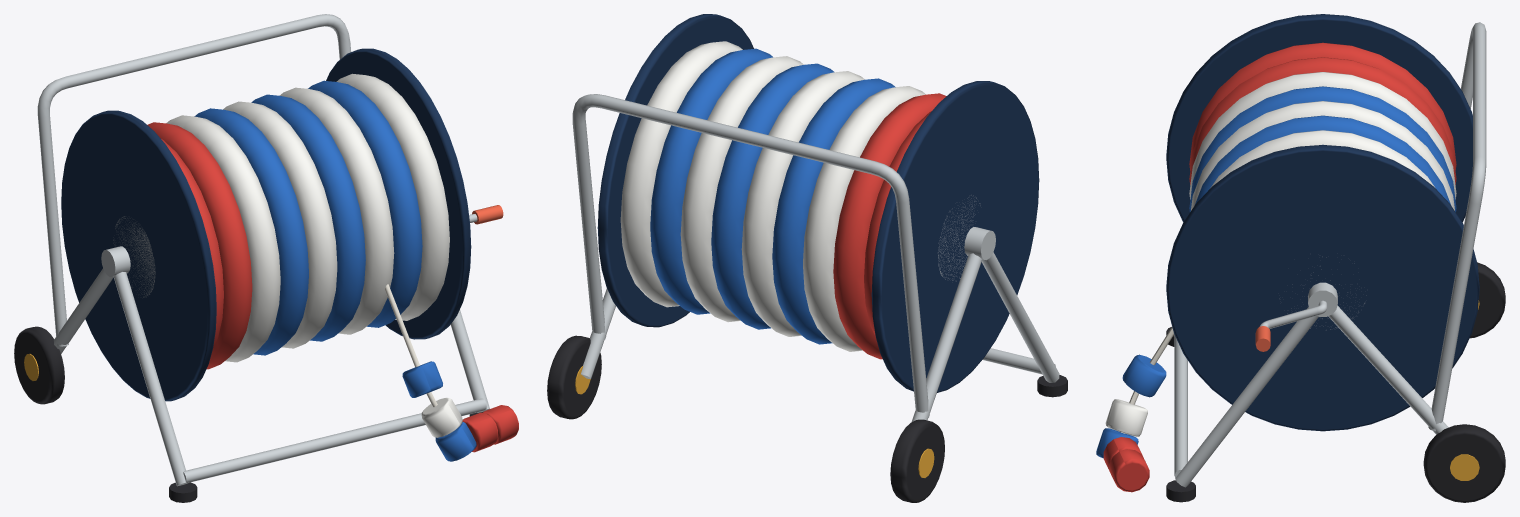
The model's file is rope_reel.glb.
3 renders of one model, left to right at view 1: azimuth 30°, elevation 25°; view 2: azimuth 150°, elevation 25°; view 3: azimuth 270°, elevation 25°, orthographic. The views are drawn at different scales.
Visible parts, largest first — view 1: RopeReelBody; view 2: RopeReelBody; view 3: RopeReelBody.
Boxes of the visible parts, <box> form: RopeReelBody: <box>14,14,518,502</box>; RopeReelBody: <box>547,14,1067,502</box>; RopeReelBody: <box>1096,14,1505,502</box>.
Bounding box in the file's own units: 1.22 × 1 × 1.1.
